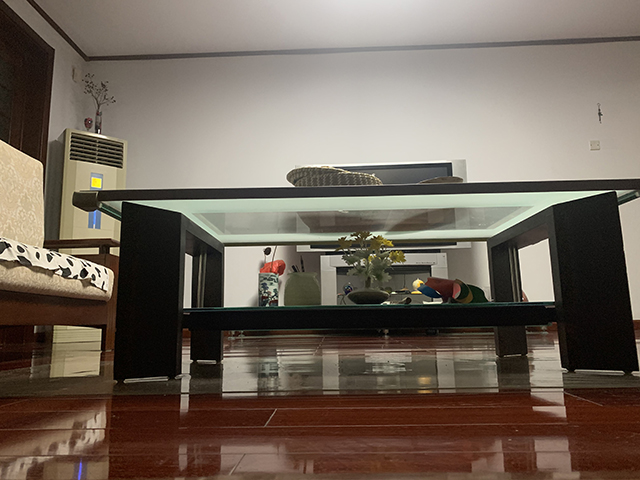sofa: (1, 136, 120, 354)
table: (70, 178, 640, 387)
